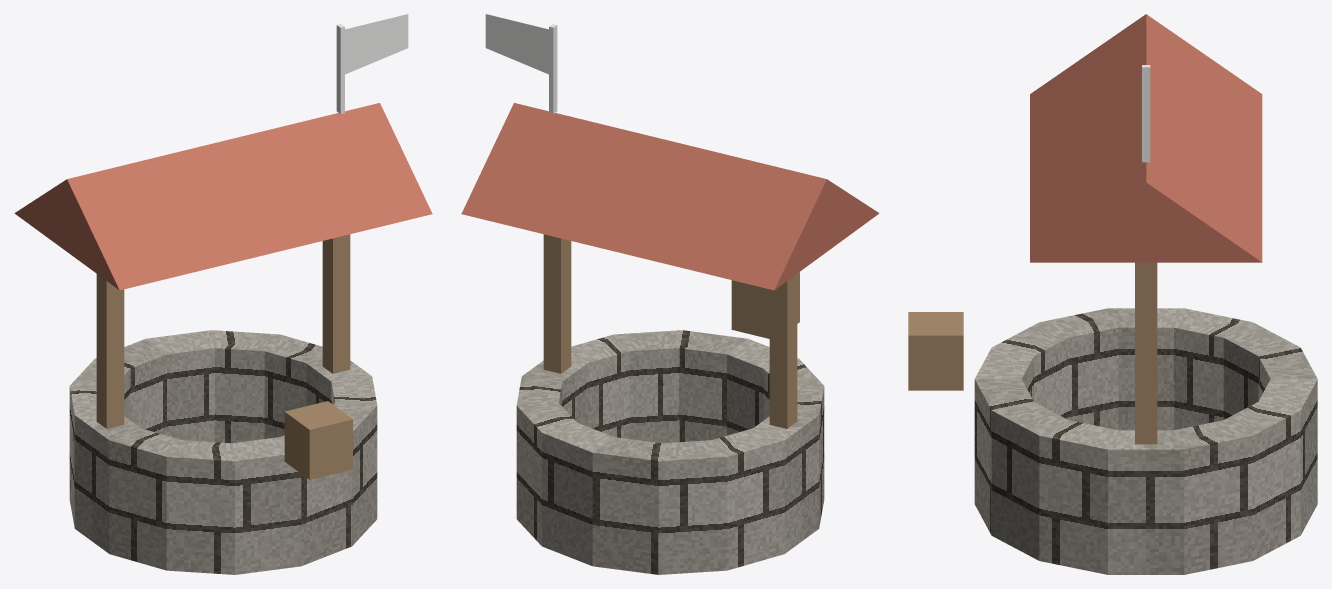
The model's file is SampleWell.glb.
3 views of the same model, side by side, from view 1: azimuth 30°, elevation 25°; view 2: azimuth 150°, elevation 25°; view 3: azimuth 270°, elevation 25° (orthographic). The views are drawn at different scales.
Parts seen in each view (by area): view 1: wall, roof, posts, bucket, flag; view 2: wall, roof, posts, flag, bucket; view 3: wall, roof, bucket, posts, flag.
Part boxes in pixels (x1,y1,x2,y2): wall: (69,330,377,574); roof: (14,103,432,290); posts: (96,234,350,428); bucket: (284,401,352,479); flag: (336,14,408,113); wall: (516,330,824,574); roof: (461,103,879,290); posts: (543,234,797,428); flag: (485,14,557,113); bucket: (731,272,799,338); wall: (974,308,1317,574); roof: (1030,14,1262,262); bucket: (908,312,963,390); posts: (1135,262,1157,444); flag: (1142,65,1150,162).
Bounding box in the file's own units: 1.57 × 2 × 1.48.
4 materials, 1 textured.
